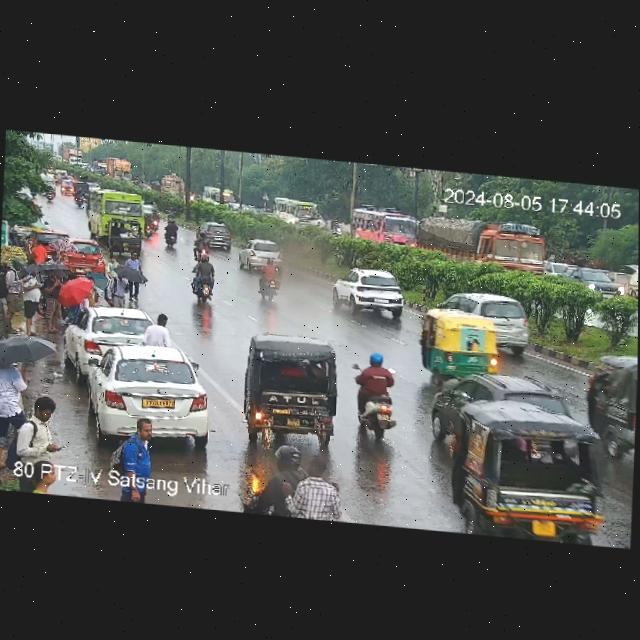bus: (86, 189, 153, 242), (349, 206, 418, 248), (271, 195, 327, 228), (202, 184, 234, 207)
car: (450, 396, 604, 546), (71, 338, 214, 447), (242, 334, 340, 449), (448, 369, 568, 426), (430, 289, 538, 352), (62, 302, 156, 368), (585, 347, 638, 461), (421, 309, 496, 380), (332, 268, 407, 318), (543, 263, 619, 300), (107, 218, 147, 256), (63, 239, 107, 273), (239, 238, 284, 271), (196, 221, 235, 250), (60, 179, 73, 197)
motorcycle: (265, 442, 352, 523), (190, 254, 222, 301), (256, 259, 286, 300), (161, 219, 181, 248), (73, 187, 85, 210), (45, 180, 56, 203)
person: (0, 331, 69, 494), (355, 349, 401, 428), (114, 418, 160, 483), (17, 264, 48, 332), (110, 254, 145, 309), (38, 267, 63, 332), (0, 260, 24, 327), (144, 310, 171, 348), (31, 238, 48, 263)
truck: (410, 213, 552, 277), (148, 171, 185, 196), (106, 156, 135, 182), (62, 145, 85, 167)
